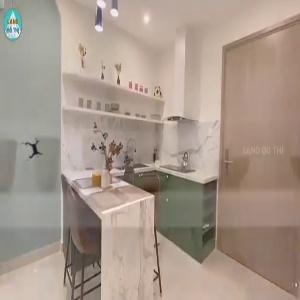drone: (12, 129, 56, 173)
